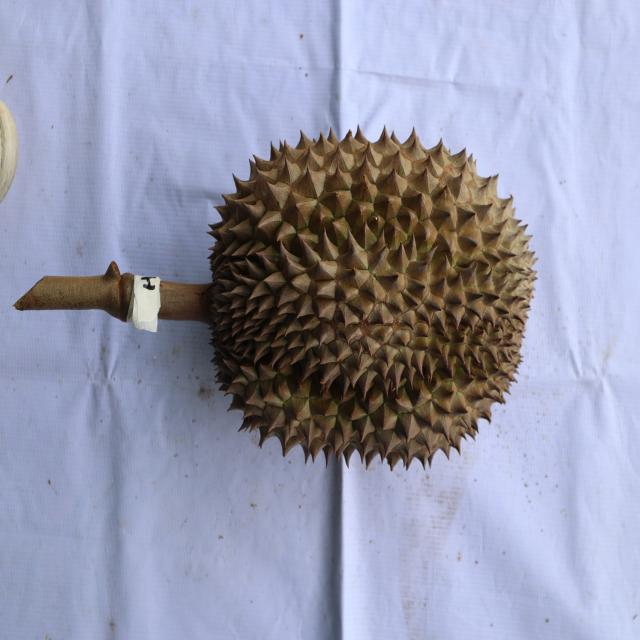mature: (206, 126, 540, 473)
